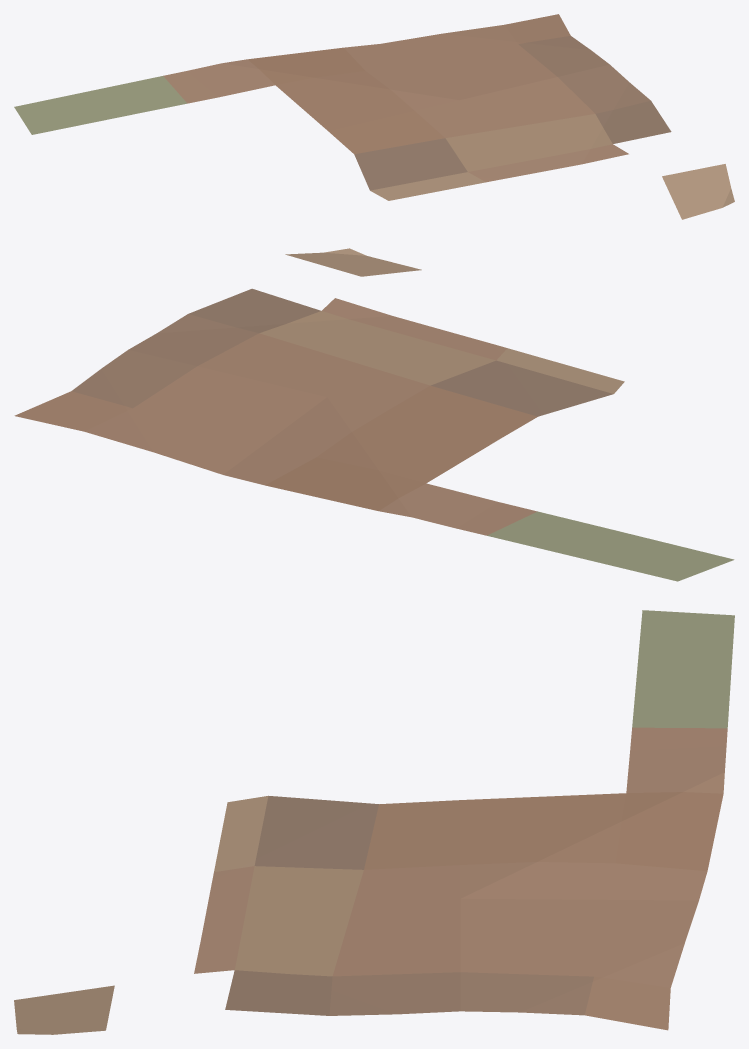
Rendered from farm_-12_-3_soil.glb.
3 views of the same model, one above another, from view 1: azimuth 30°, elevation 25°; view 2: azimuth 150°, elevation 25°; view 3: azimuth 270°, elevation 25° (orthographic). The views are drawn at different scales.
Parts seen in each view (by area): view 1: geometry_0; view 2: geometry_0; view 3: geometry_0.
Boxes of the visible parts, x1,y1,x2,y2 form: geometry_0: [14, 14, 734, 219]; geometry_0: [14, 248, 734, 581]; geometry_0: [14, 610, 734, 1034].
Size of the model in its own units: 232 by 18.14 by 178.
